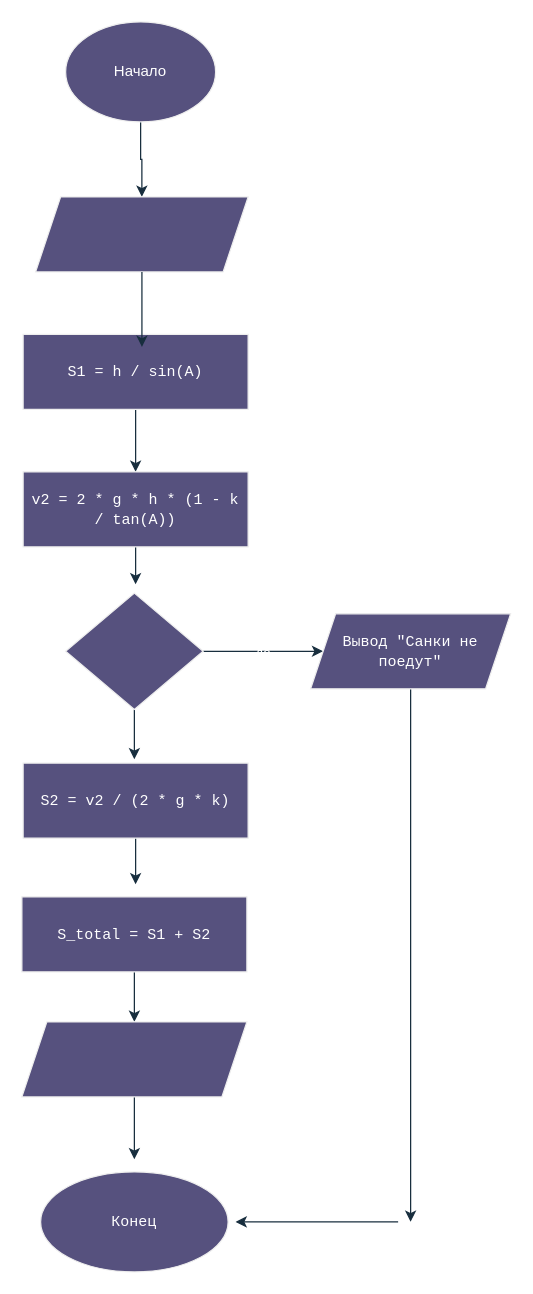
This 533x1294 diagram has some shape labels left out. Each missing label, with the box of its shape:
v2 < 0 ?: (64, 592, 203, 709)
Ввод h,A,k: (34, 196, 248, 272)
Вывод S_total: (21, 1021, 247, 1097)
